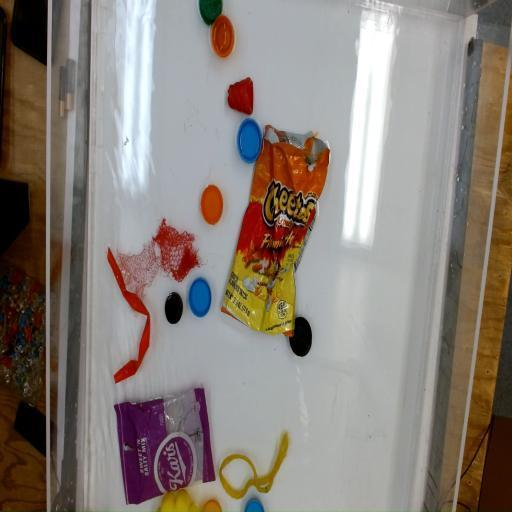Bottle Cap: (235, 118, 264, 164), (210, 18, 236, 59), (200, 184, 224, 225), (189, 276, 211, 318), (290, 320, 313, 358), (164, 291, 184, 325), (198, 0, 222, 26), (244, 499, 266, 512), (204, 500, 224, 512)
Cone Cap: (226, 75, 256, 117)
Netting: (156, 218, 202, 283), (115, 237, 162, 299)
Plastic Bag: (220, 124, 336, 340), (110, 385, 216, 507)
Plastic Strand: (104, 248, 150, 382), (218, 432, 290, 502)
Sponge: (156, 493, 201, 512)
